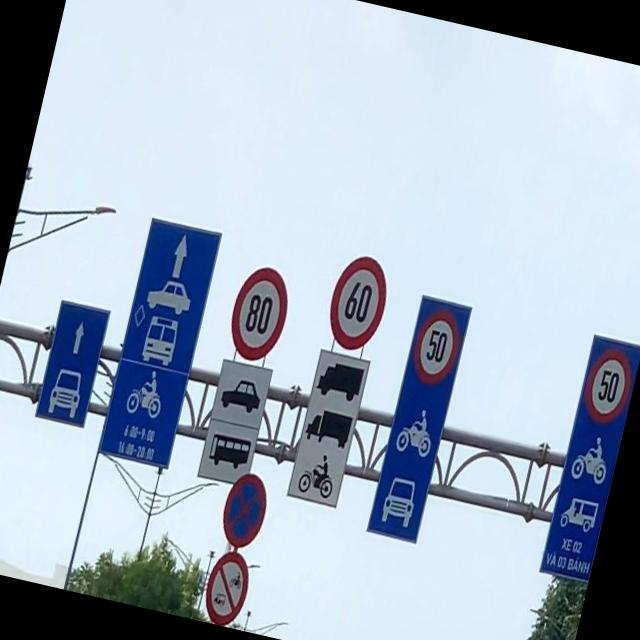P-127: (319, 250, 395, 354), (221, 262, 295, 364)
P-130: (216, 471, 272, 548)
